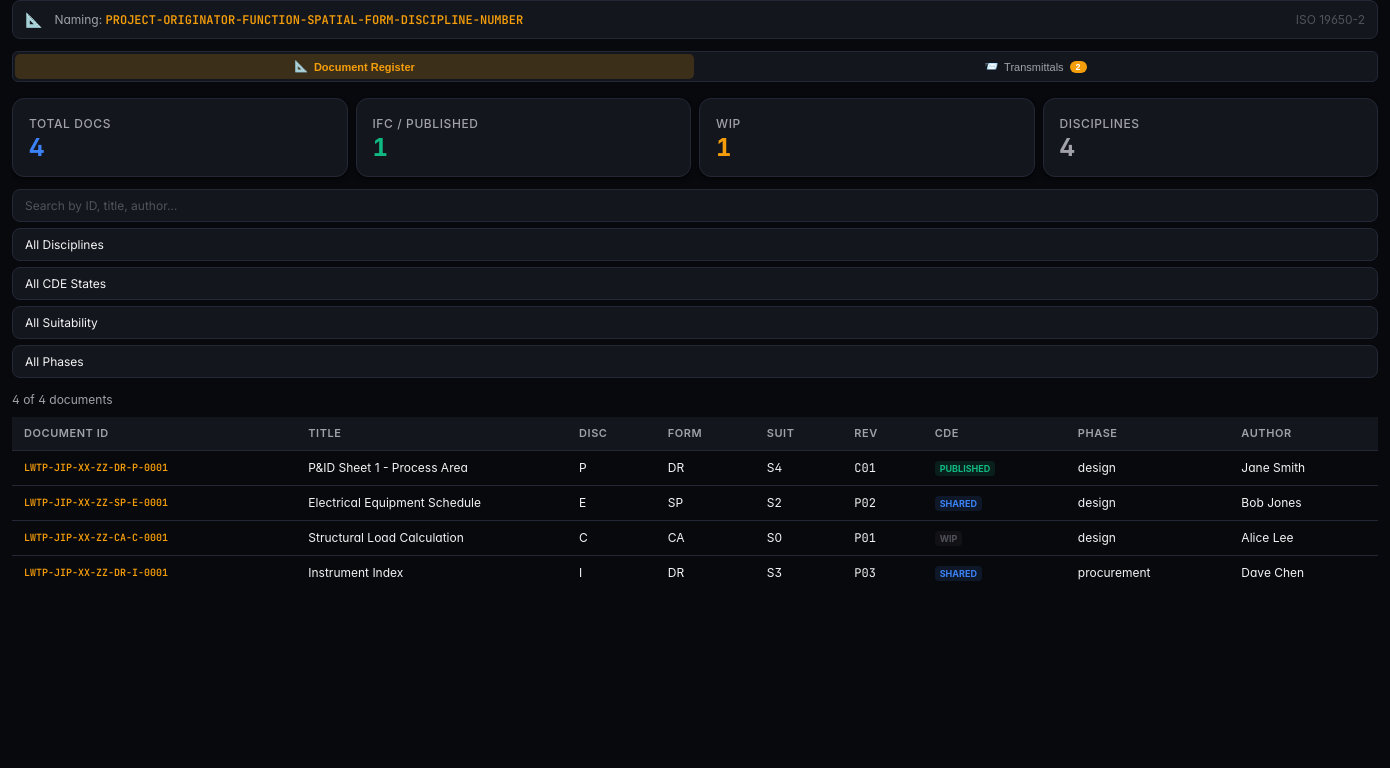
Test: DocumentsView — document register › discipline filter works
The width and height of the screenshot is (1390, 768).
Select "P" in the dropdown named "filter by discipline" at (695, 244), box top-left (12, 228), bottom-right (1378, 261)
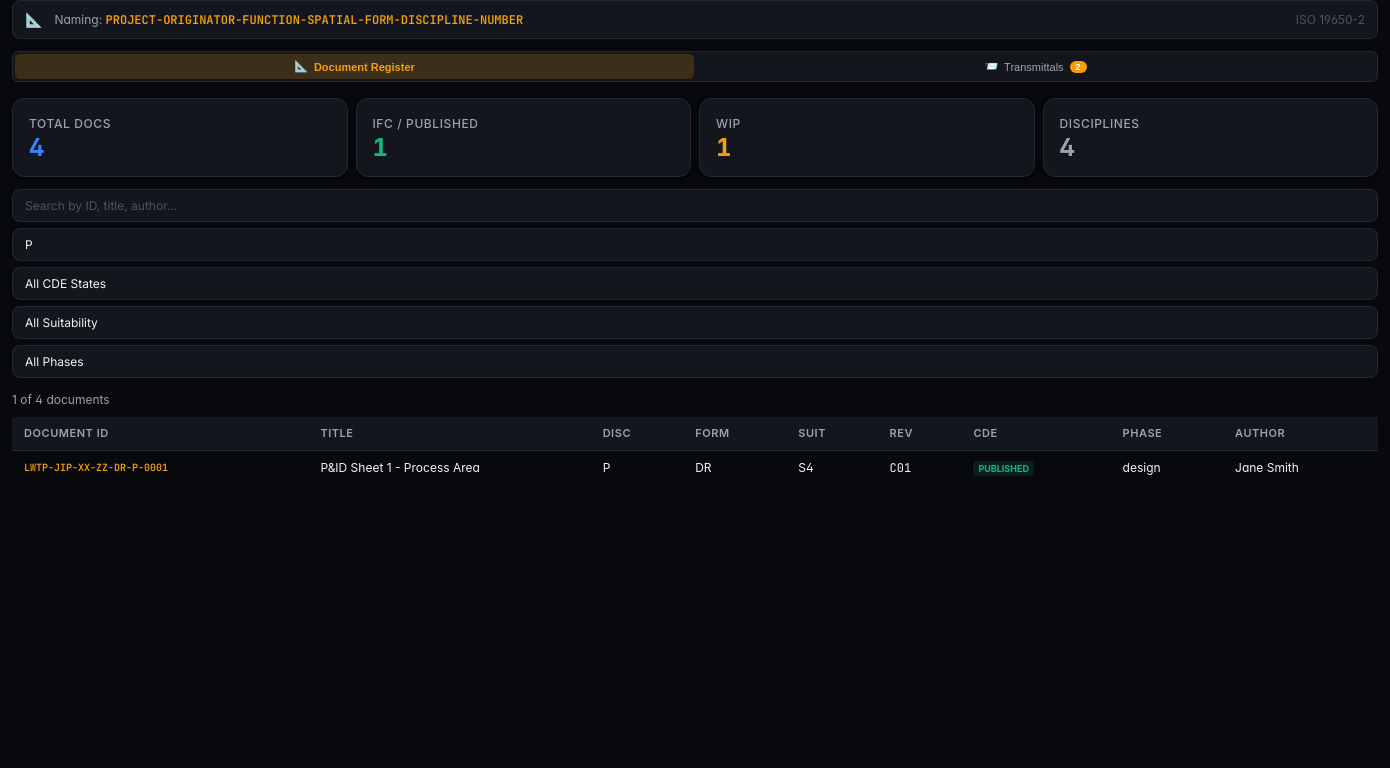
Expected: the text "LWTP-JIP-XX-ZZ-DR-P-0001" is shown, top-left (12, 450), bottom-right (308, 484)
Expected: the text "LWTP-JIP-XX-ZZ-SP-E-0001" is gone
